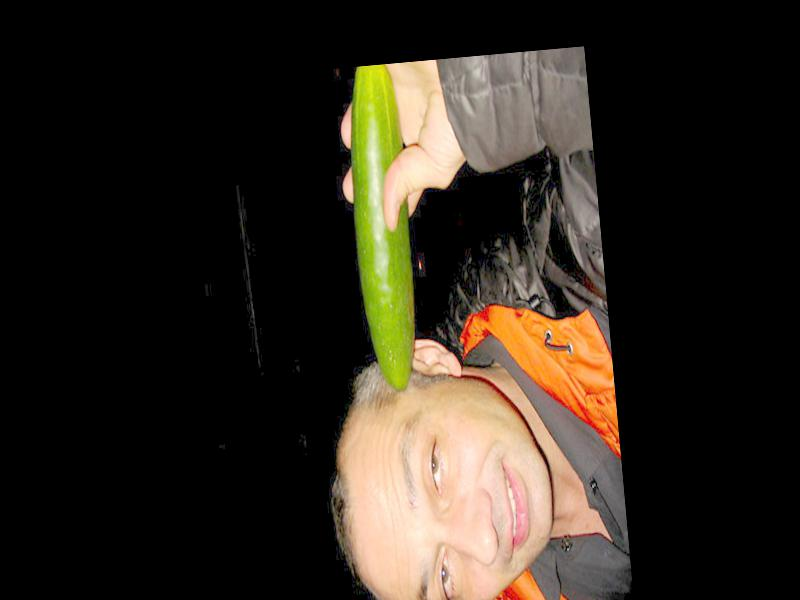Cucumber: (342, 65, 423, 395)
